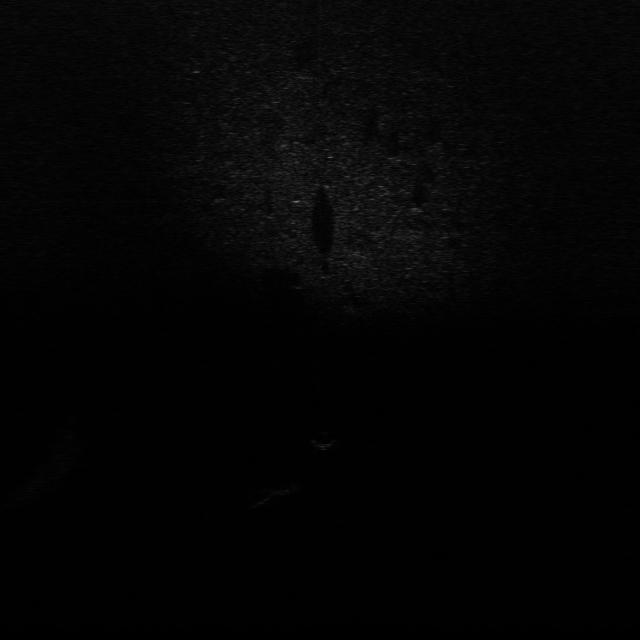ball: (308, 428, 337, 449)
square cage: (257, 482, 308, 501)
